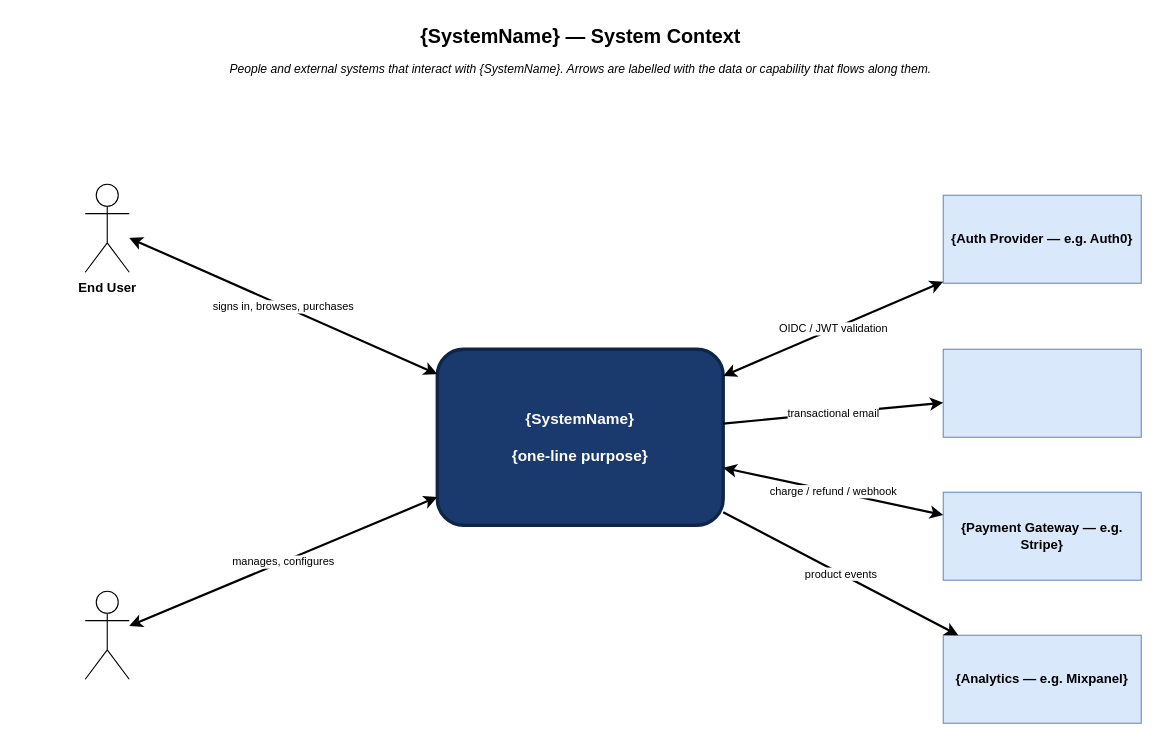
Some shapes in this 1161 by 743 pixel diagram are drawn without their labels. Each missing label, with the centre of its shape:
"Admin / Operator" belongs at (106,634).
"{Email Provider — e.g. SendGrid}" belongs at (1041,392).
